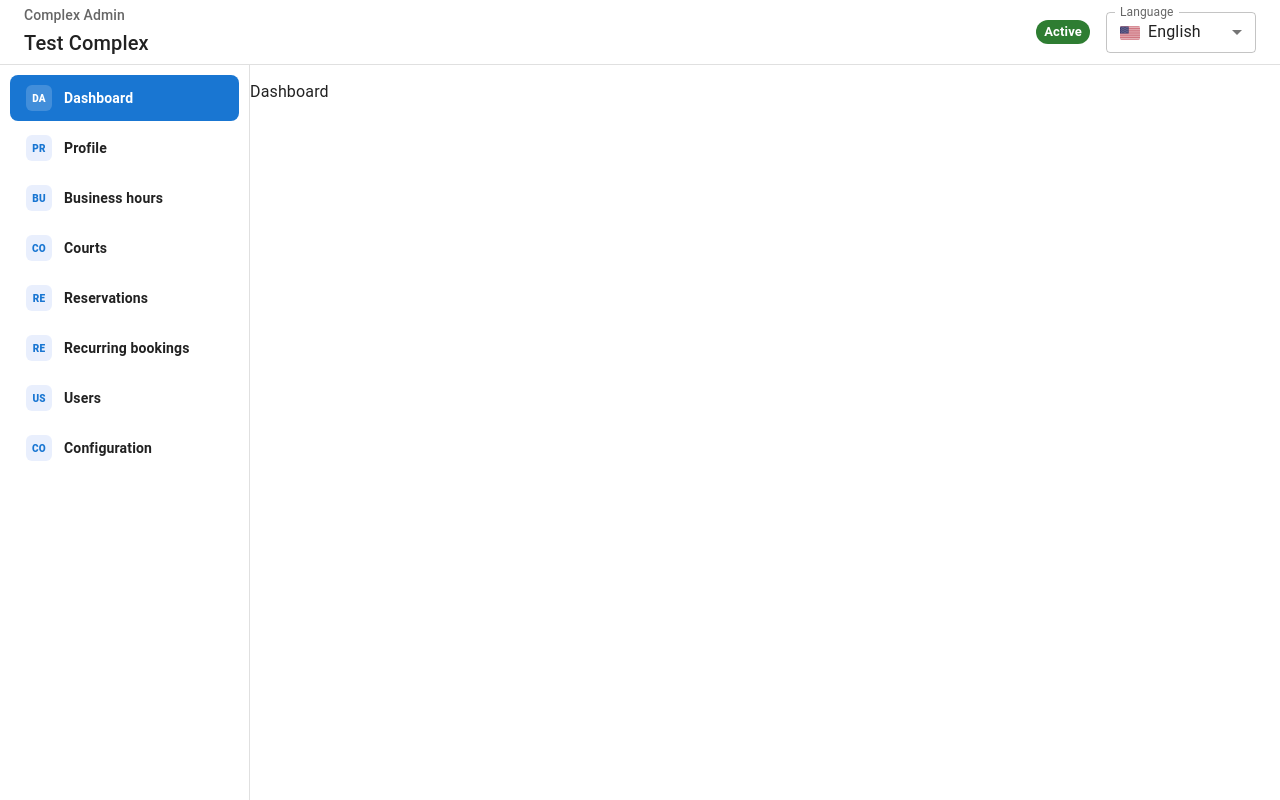
ComplexAdminLayout › updates the admin language and persists the selection when a new language is chosen
Check: the link "DA Dashboard" is shown, box [10,75,239,121]
Step 1. Click the dropdown named "Language" → coordinates (1160, 33), box [1120,22,1201,43]
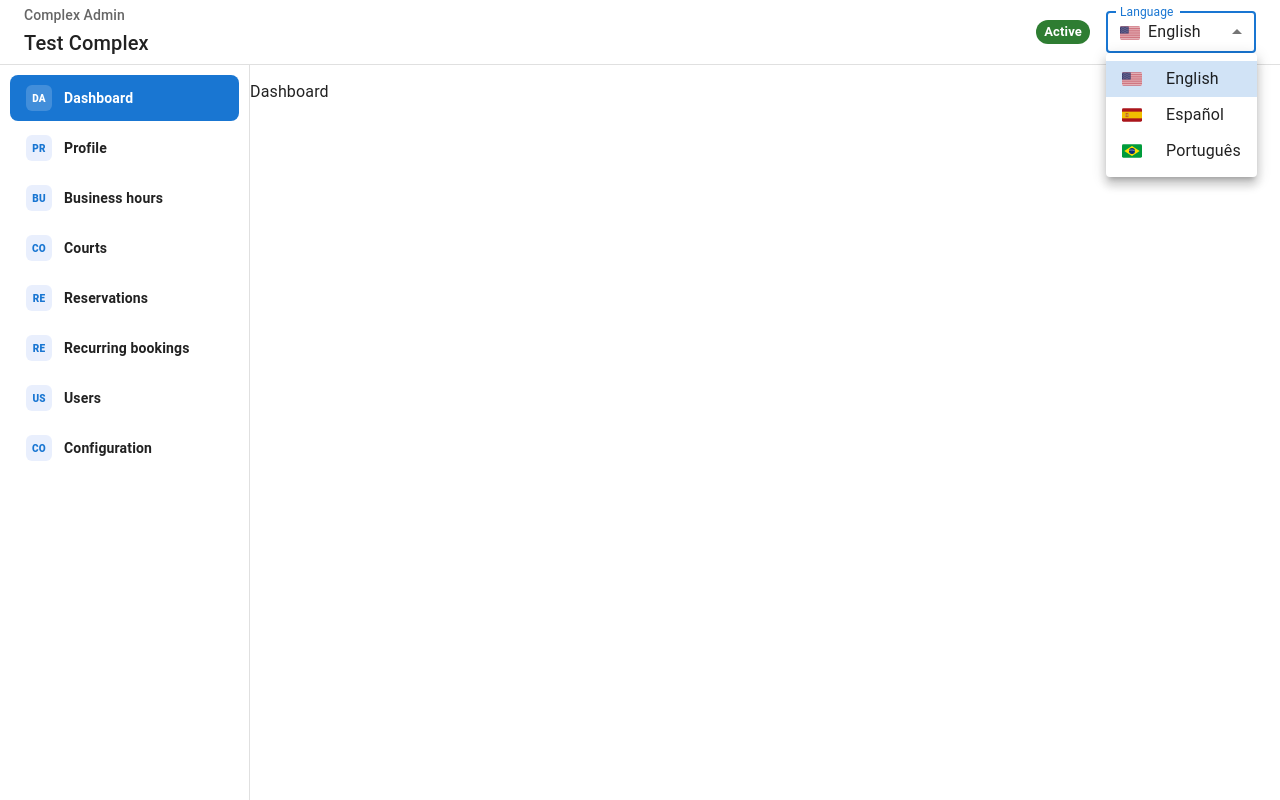
Step 2. Click the option "Español" → coordinates (1173, 115), box [1122,105,1224,125]
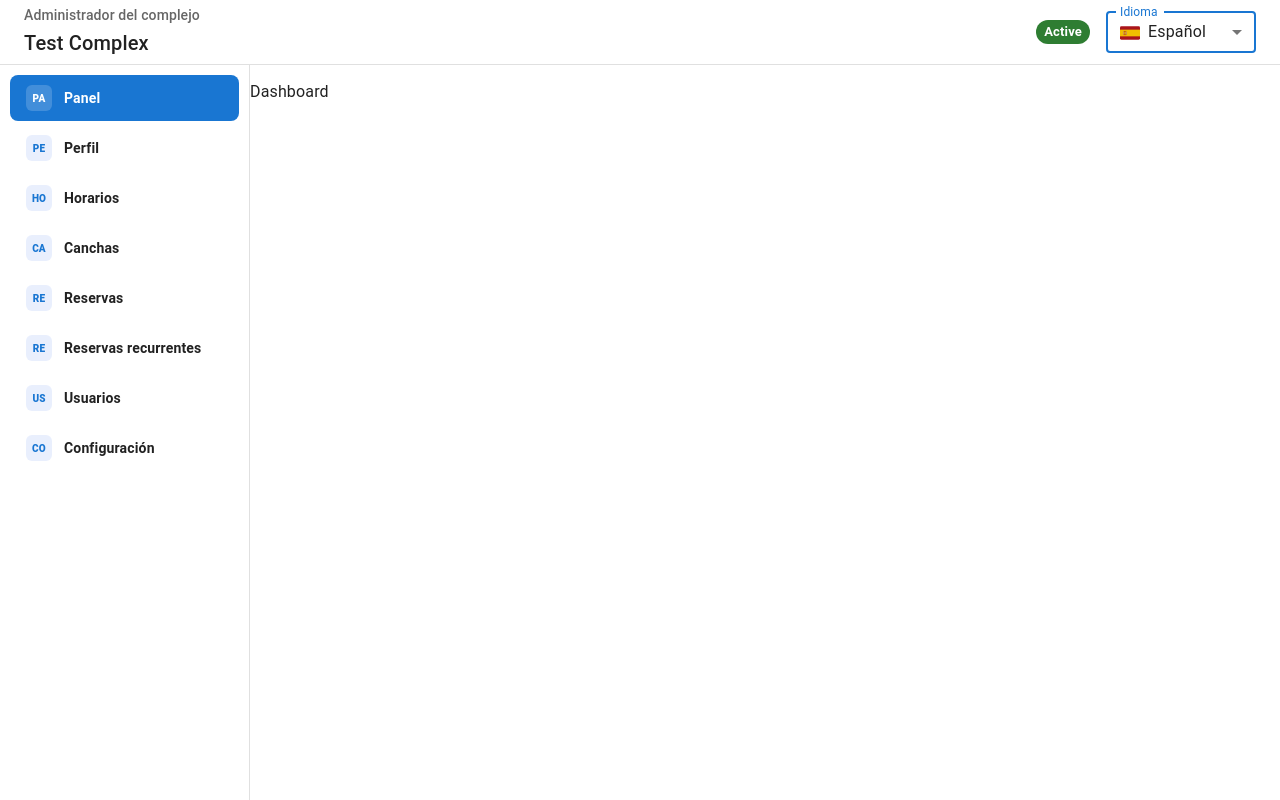
Check: the link "PA Panel" is shown, box [10,75,239,121]
